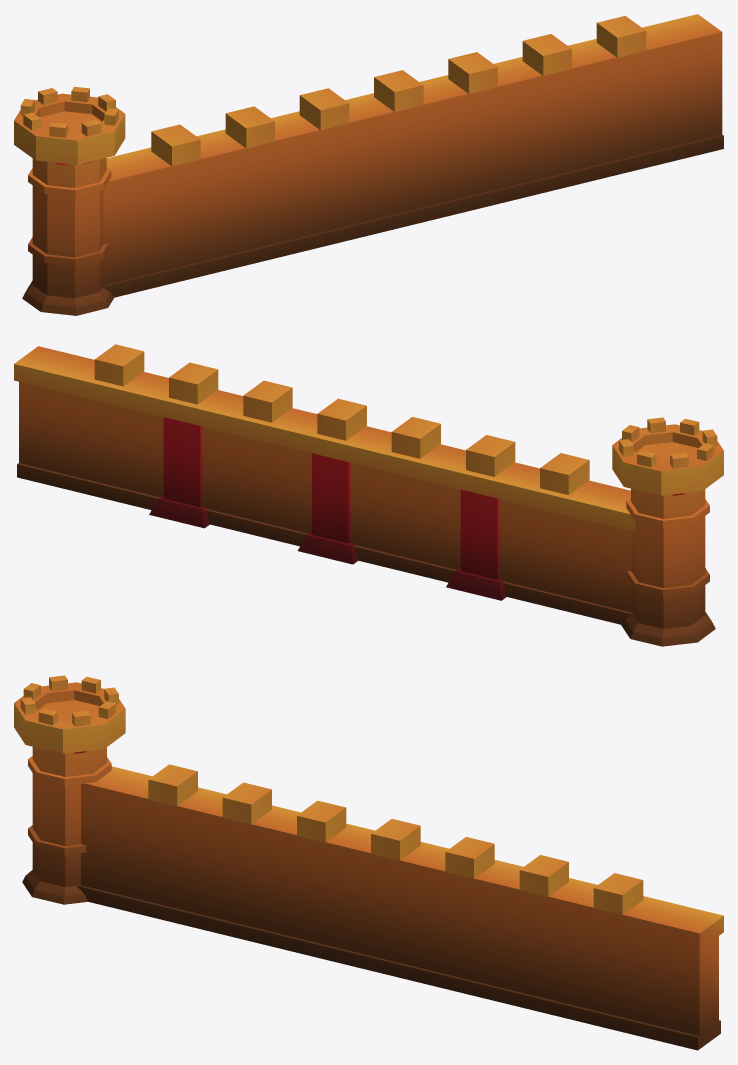
File: Medieval_wall_01.fbx
3 views of the same model, one above another, from view 1: azimuth 30°, elevation 25°; view 2: azimuth 150°, elevation 25°; view 3: azimuth 330°, elevation 25° (orthographic).
Visible parts, largest first — view 1: Medieval_wall_01; view 2: Medieval_wall_01; view 3: Medieval_wall_01.
Part boxes in pixels (x1=…): Medieval_wall_01: x1=14, y1=14, x2=723, y2=315; Medieval_wall_01: x1=14, y1=344, x2=723, y2=646; Medieval_wall_01: x1=14, y1=675, x2=723, y2=1050.
Bounding box in the file's own units: 210 × 54.96 × 27.6.
1 material, 1 textured.
